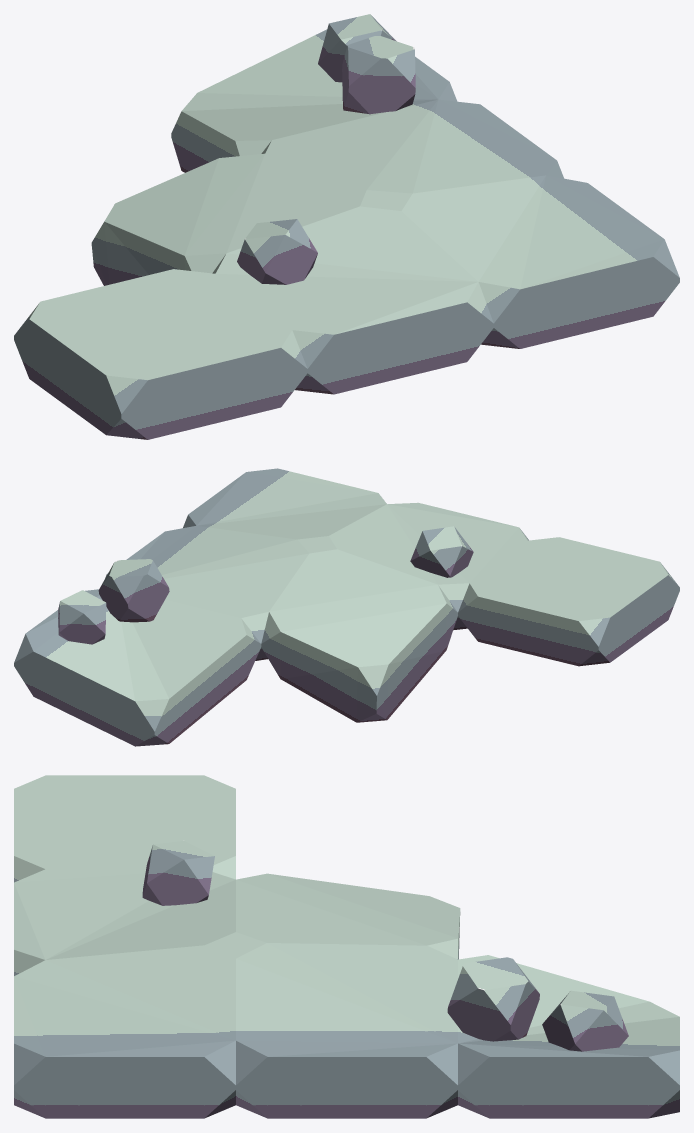
The model's file is Tiles 4.001.fbx.
The picture shows the model from 3 angles, top to bottom: view 1: azimuth 30°, elevation 25°; view 2: azimuth 150°, elevation 25°; view 3: azimuth 270°, elevation 25°; orthographic projection. The views are drawn at different scales.
Parts seen in each view (by area): view 1: Tiles 4.001; view 2: Tiles 4.001; view 3: Tiles 4.001.
Part boxes in pixels (x1=…): Tiles 4.001: x1=14, y1=14, x2=679, y2=439; Tiles 4.001: x1=14, y1=468, x2=679, y2=746; Tiles 4.001: x1=14, y1=775, x2=679, y2=1118.
Bounding box in the file's own units: 495 × 132 × 495.
